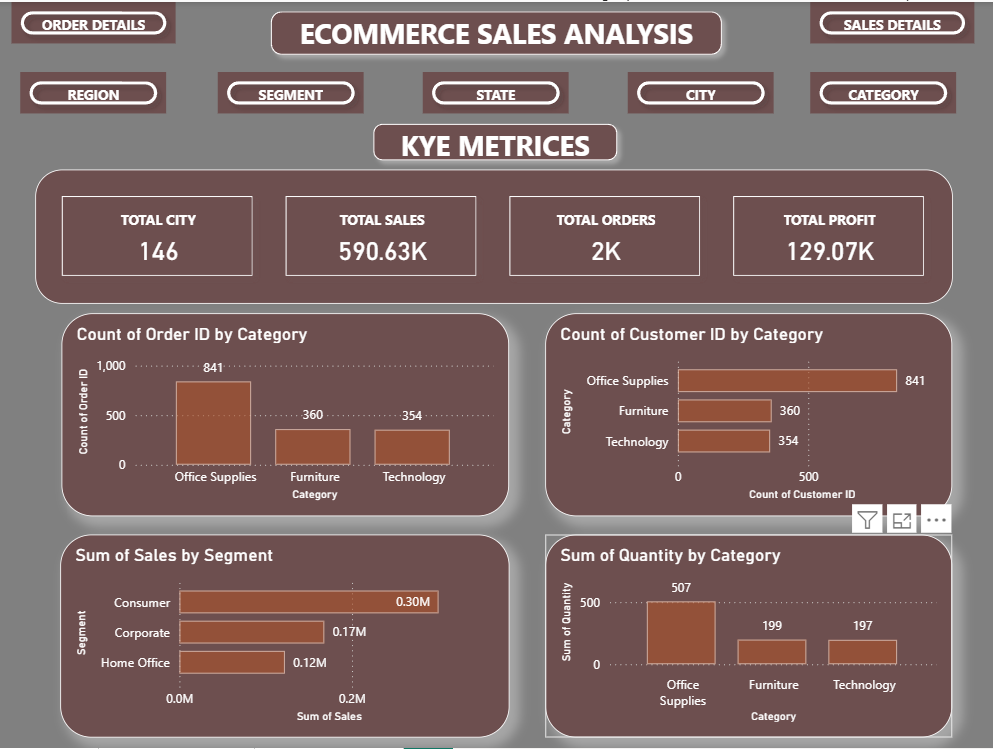

The dashboard page shown, as its layout file describes it:
{"tool":"powerbi","page":{"name":"HOMEPAGE","canvas":[960,720],"ordinal":0},"visuals":[{"type":"shape","box":[253.3,0,453.3,60],"z":0},{"type":"shape","box":[352.8,108,253.4,53.3],"z":1000},{"type":"cardVisual","fields":{"Data":["Dataset.TOTAL CIRY","Dataset.TOTAL SALES","Dataset.TOTAL ORDERS","Dataset.TOTAL PROFIT"]},"box":[34.6,161.3,885.6,129.6],"z":2000},{"type":"columnChart","fields":{"Y":["CountNonNull(Dataset.Order ID)"],"Category":["Dataset.Category"]},"box":[60.5,301,432,195.8],"z":6000},{"type":"barChart","fields":{"Y":["CountNonNull(Dataset.Customer ID)"],"Category":["Dataset.Category"]},"box":[527,301,393.1,195.8],"z":12000},{"type":"barChart","fields":{"Y":["Sum(Dataset.Sales)"],"Category":["Dataset.Segment"]},"box":[59,514.1,433.4,195.8],"z":15000},{"type":"columnChart","fields":{"Category":["Dataset.Category"],"Y":["Sum(Dataset.Quantity)"]},"box":[527,514.1,393.1,195.8],"z":19000},{"type":"actionButton","title":"REGION","box":[20.2,67.7,141.1,40.3],"z":23000},{"type":"actionButton","title":"SEGMENT","box":[211.7,67.7,141.1,40.3],"z":24000},{"type":"actionButton","title":"STATE","box":[783.4,67.7,141.1,40.3],"z":25000},{"type":"actionButton","title":"CITY","box":[606.2,67.7,141.1,40.3],"z":26000},{"type":"actionButton","title":"CATEGORY","box":[409,67.7,141.1,40.3],"z":27000},{"type":"actionButton","title":"REGION","box":[11.5,0,158.4,40.3],"z":28000},{"type":"actionButton","title":"REGION","box":[783.4,0,158.4,40.3],"z":29000}]}

Visuals, with their boxes in screenshot pixels (x1, y1, x2, y2), scaled from the page's 960x720 canvas onto the 993x749 screenshot:
shape: (left=262, top=0, right=731, bottom=62)
shape: (left=365, top=112, right=627, bottom=168)
cardVisual - Dataset.TOTAL CIRY x Dataset.TOTAL SALES: (left=36, top=168, right=952, bottom=303)
columnChart - CountNonNull(Dataset.Order ID) x Dataset.Category: (left=63, top=313, right=509, bottom=517)
barChart - CountNonNull(Dataset.Customer ID) x Dataset.Category: (left=545, top=313, right=952, bottom=517)
barChart - Sum(Dataset.Sales) x Dataset.Segment: (left=61, top=535, right=509, bottom=738)
columnChart - Dataset.Category x Sum(Dataset.Quantity): (left=545, top=535, right=952, bottom=738)
"REGION" actionButton: (left=21, top=70, right=167, bottom=112)
"SEGMENT" actionButton: (left=219, top=70, right=365, bottom=112)
"STATE" actionButton: (left=810, top=70, right=956, bottom=112)
"CITY" actionButton: (left=627, top=70, right=773, bottom=112)
"CATEGORY" actionButton: (left=423, top=70, right=569, bottom=112)
"REGION" actionButton: (left=12, top=0, right=176, bottom=42)
"REGION" actionButton: (left=810, top=0, right=974, bottom=42)
